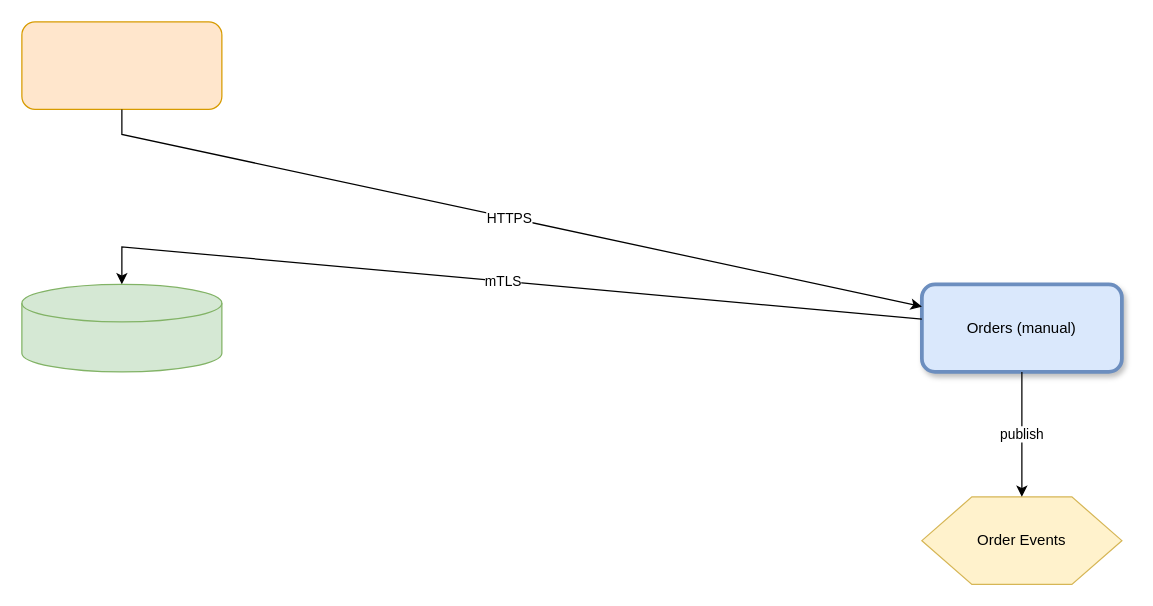
Some shapes in this 1153 by 606 pixel diagram are drawn without their labels. Here are the shapes that lost their labels. From the top down, the centre of each, then its label:
At point 121,65: "API Gateway".
At point 121,327: "Orders DB".
